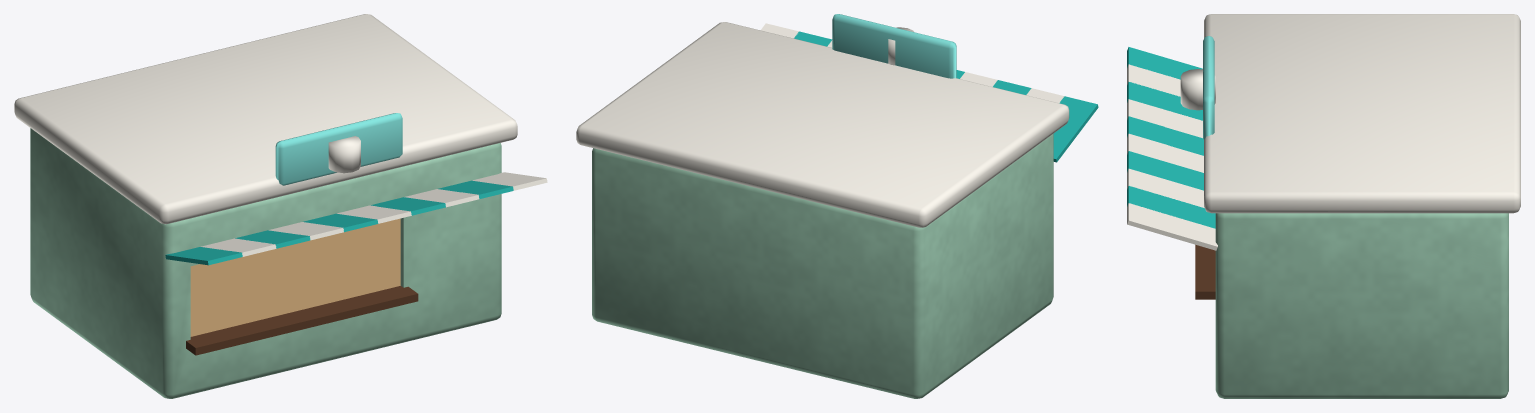
Rendered from courier_cafe.gltf.
3 views of the same model, side by side, from view 1: azimuth 30°, elevation 25°; view 2: azimuth 150°, elevation 25°; view 3: azimuth 270°, elevation 25° (orthographic). The views are drawn at different scales.
Visible parts, largest first — view 1: courier_cafe_mesh, INT_counter_cafe; view 2: courier_cafe_mesh; view 3: courier_cafe_mesh, INT_counter_cafe.
Part boxes in pixels (box(x1,y1,x2,y2)): courier_cafe_mesh: box(14, 14, 547, 398); INT_counter_cafe: box(186, 286, 418, 355); courier_cafe_mesh: box(576, 14, 1098, 398); courier_cafe_mesh: box(1127, 14, 1520, 398); INT_counter_cafe: box(1195, 244, 1215, 299).
Size of what is drawn, in the model's own units: 7.4 by 4.7 by 6.71.
Materials: 9 (1 with a texture image).
